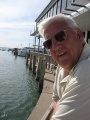male: (38, 21, 90, 75)
